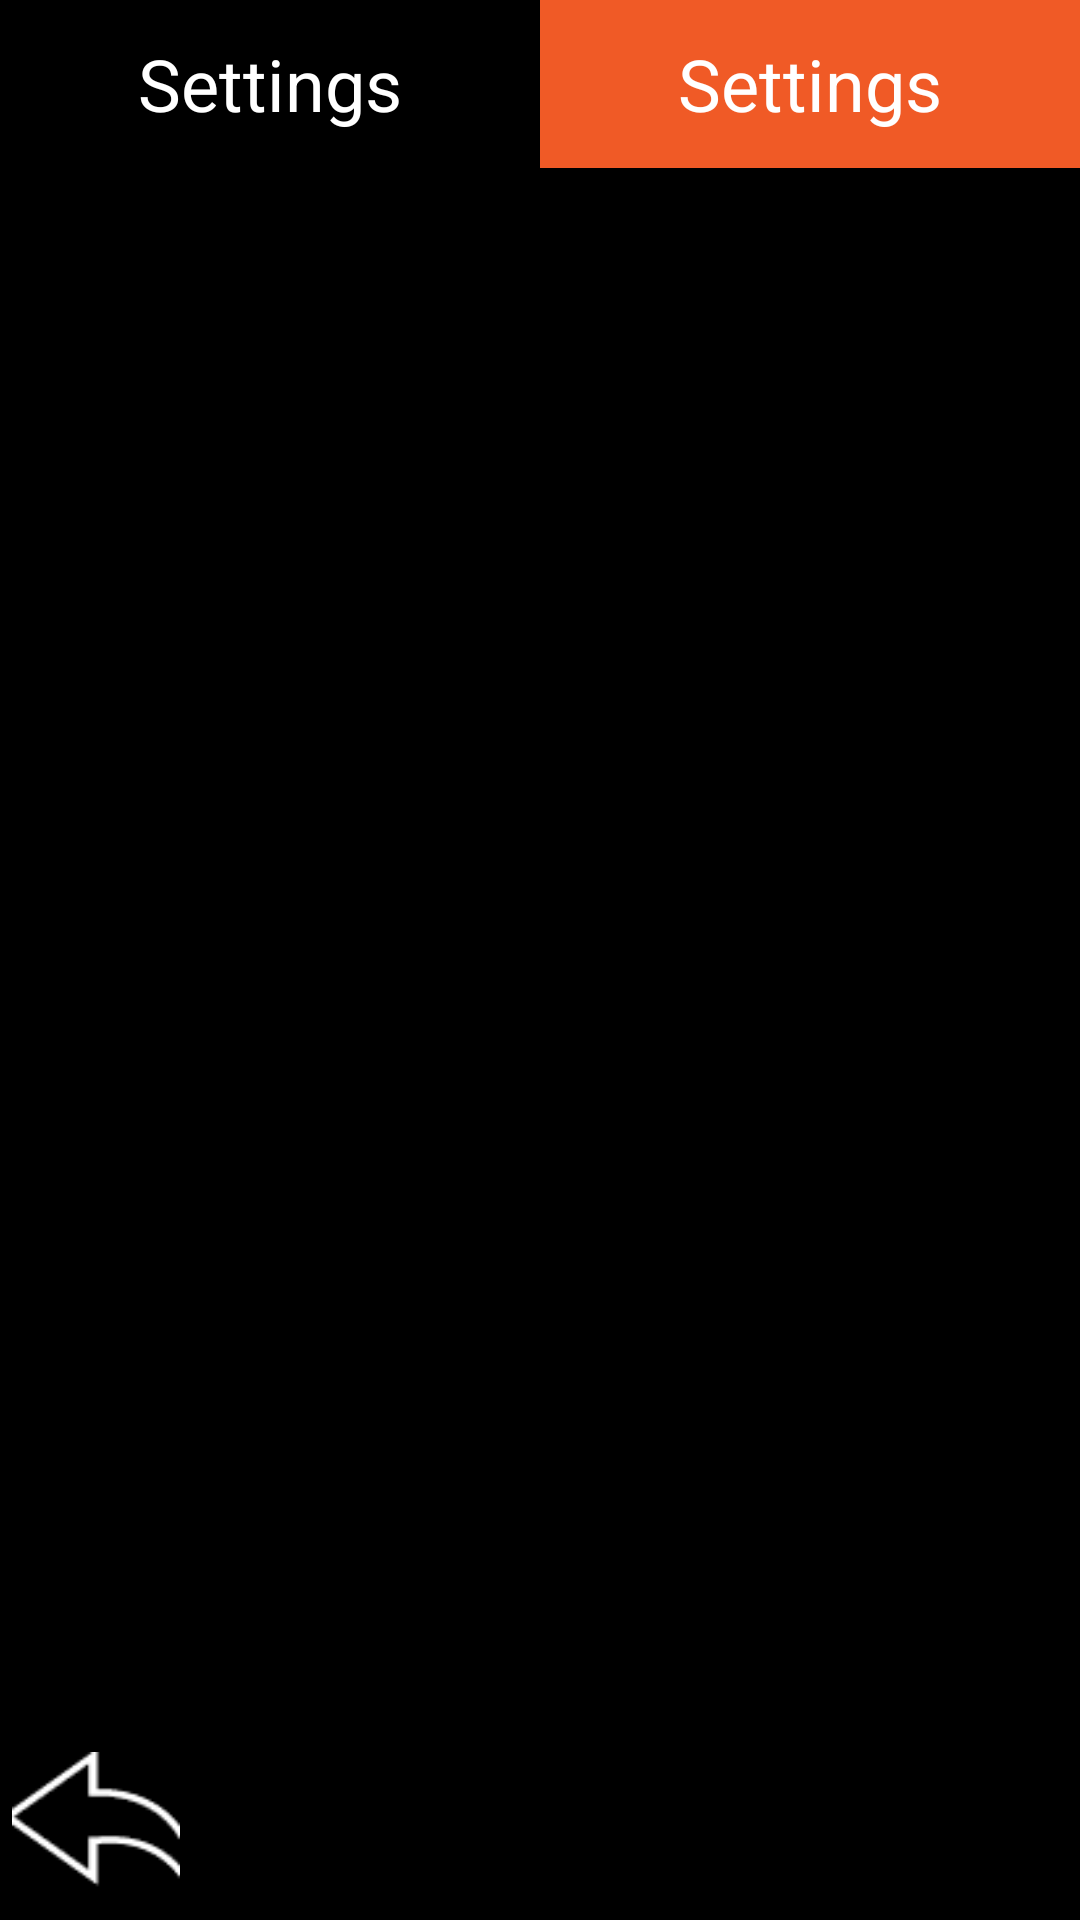

Point at icon controls on the screen. Image size 1080 x 1920, points as (x,y).
back: (96,1819)
